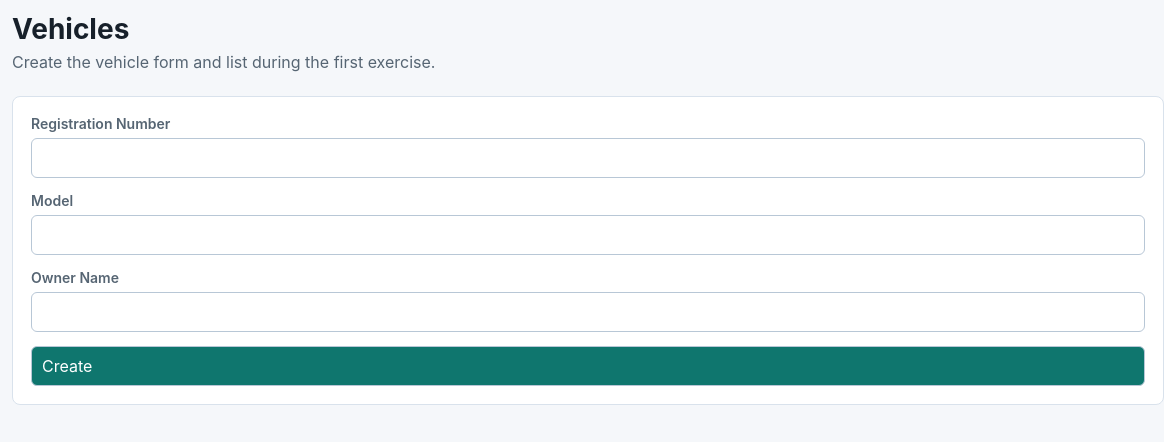
Test: VehiclePage training exercises › shows an error message when vehicle creation fails
The width and height of the screenshot is (1164, 442).
Type "17-09-VI" into the field labelled "Registration Number" at point(588, 158), box [31,138,1145,178]
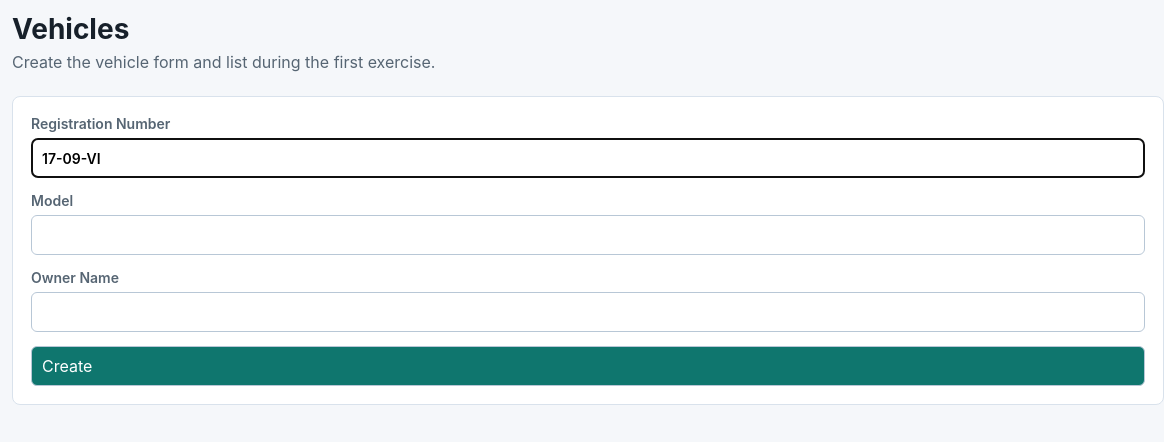
Type "Laguna" into the field labelled "Model" at point(588, 235), box [31,215,1145,255]
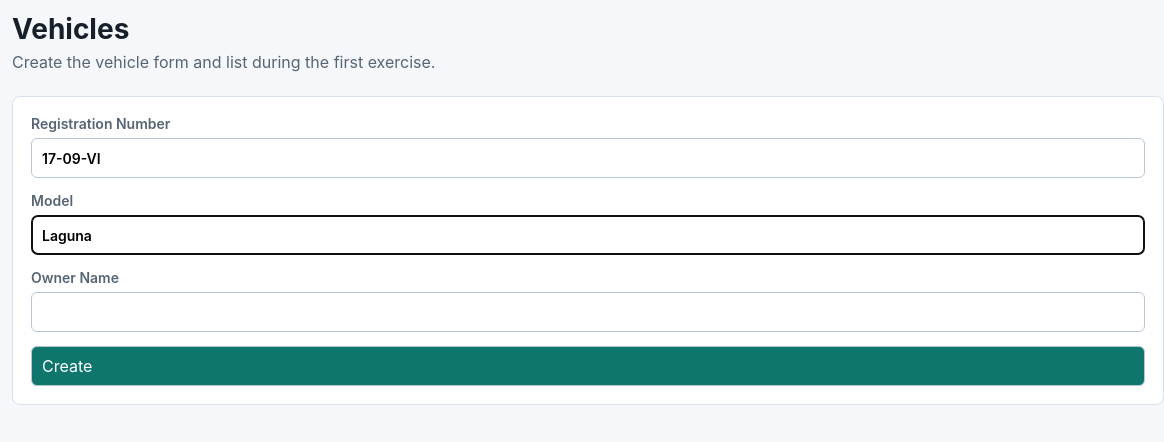
Type "Luis" into the field labelled "Owner Name" at point(588, 312), box [31,292,1145,332]
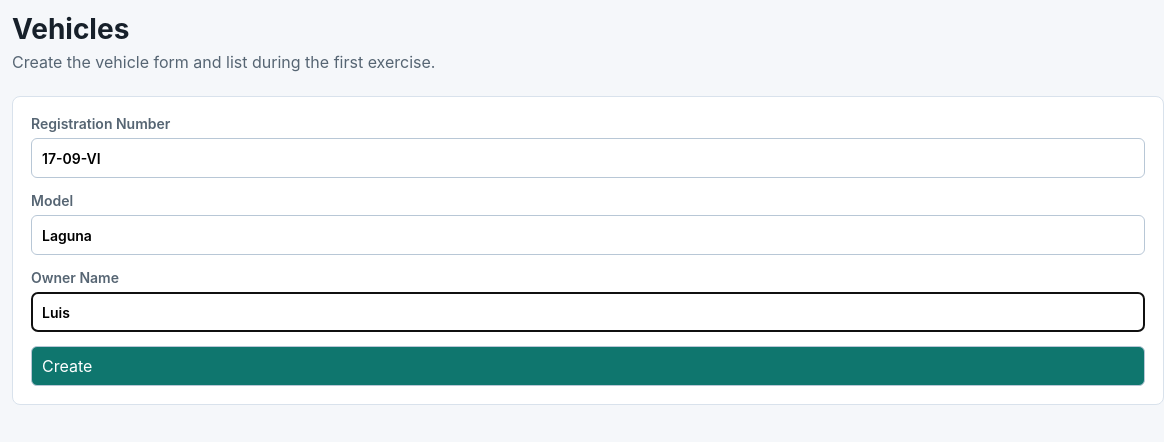
Click the button "Create" at point(67, 366), box [31,346,1145,386]
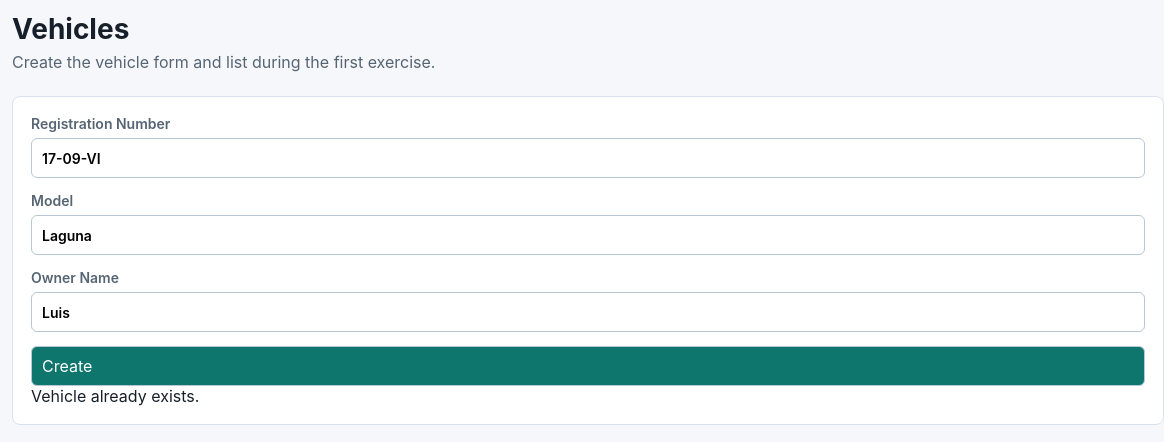
Check: the field labelled "Registration Number" holds "17-09-VI", box [31,138,1145,178]
Check: the field labelled "Model" holds "Laguna", box [31,215,1145,255]
Check: the message shows "Vehicle already exists", box [31,386,199,406]
